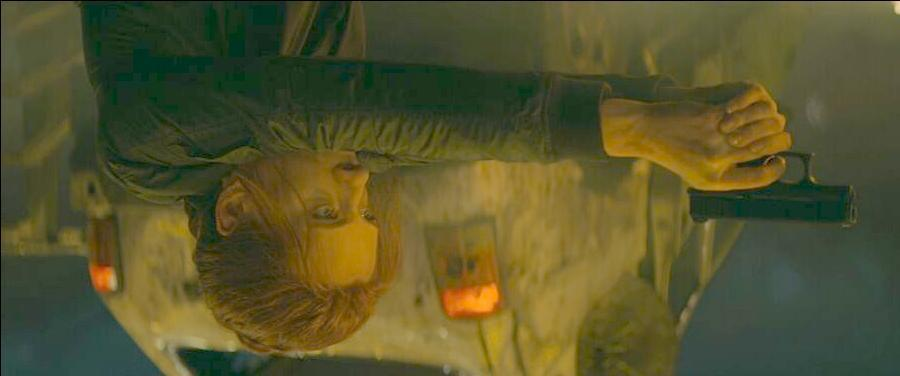gun: (679, 133, 856, 225)
